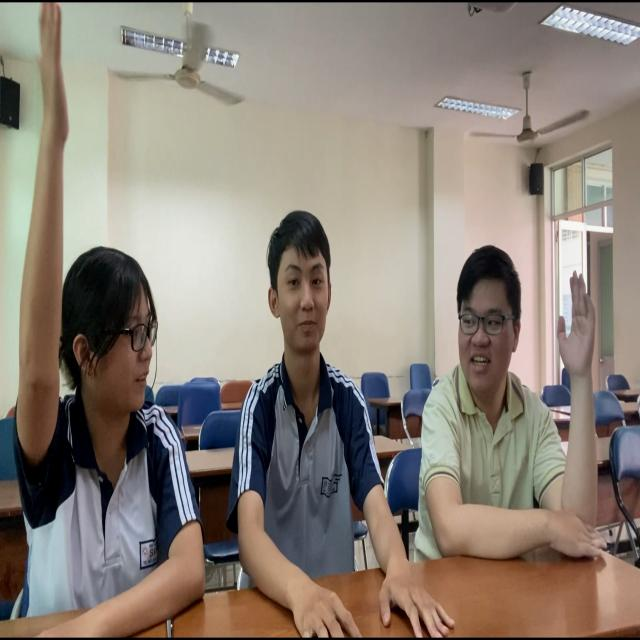raise_hand: (8, 1, 208, 625), (408, 228, 635, 579)
